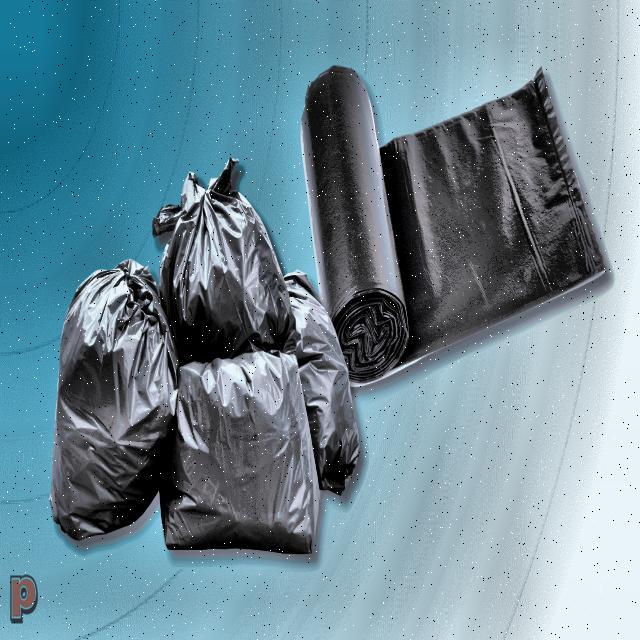Trashbag: (58, 260, 175, 530), (161, 352, 309, 550), (155, 170, 286, 336), (279, 267, 364, 497)
